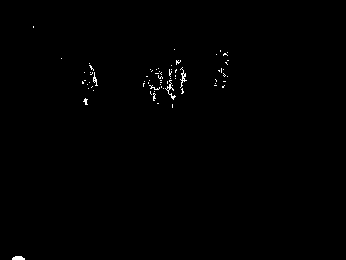person: (164, 57, 187, 108), (78, 64, 99, 107), (143, 63, 163, 105), (213, 45, 230, 94)
